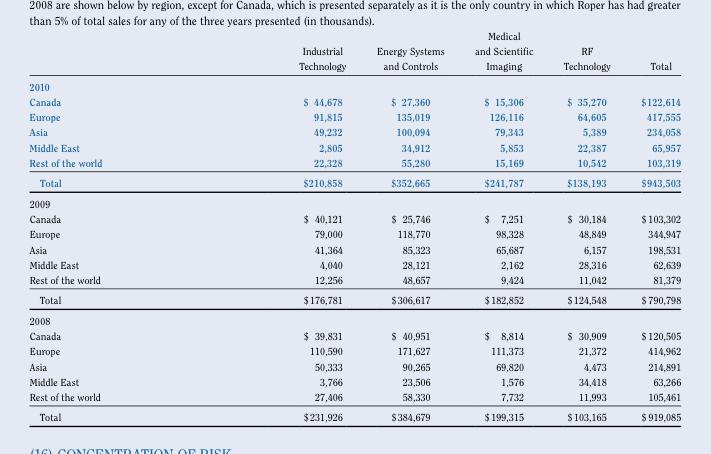table: (28, 29, 680, 422)
table column: (28, 29, 199, 422), (199, 29, 360, 422), (360, 29, 459, 422), (459, 29, 547, 422), (547, 29, 625, 422), (625, 29, 680, 422)
table column header: (28, 29, 680, 76)
table projected row header: (28, 192, 680, 210), (28, 310, 680, 328), (28, 76, 680, 93)
table row: (28, 29, 680, 76), (28, 289, 680, 310), (28, 172, 680, 192), (28, 154, 680, 172), (28, 192, 680, 210), (28, 271, 680, 289), (28, 310, 680, 328), (28, 388, 680, 406), (28, 76, 680, 93), (28, 93, 680, 109), (28, 210, 680, 226), (28, 406, 680, 422), (28, 109, 680, 124), (28, 124, 680, 139), (28, 139, 680, 154), (28, 226, 680, 241), (28, 241, 680, 256), (28, 256, 680, 271), (28, 328, 680, 343), (28, 343, 680, 358), (28, 358, 680, 373), (28, 373, 680, 388)
